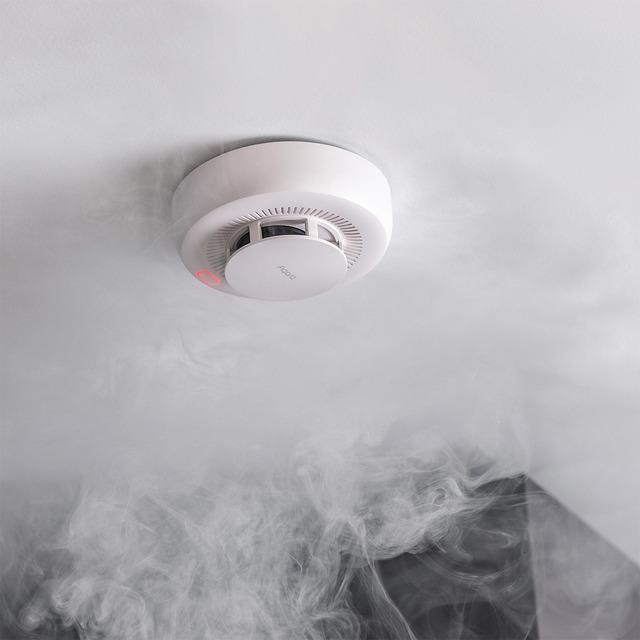Smoke-Detector: (170, 140, 398, 304)
